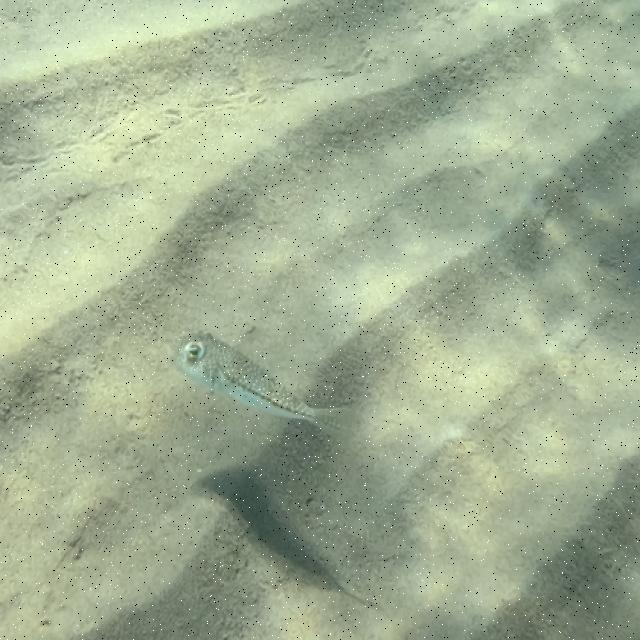Balik: (173, 332, 344, 436)
